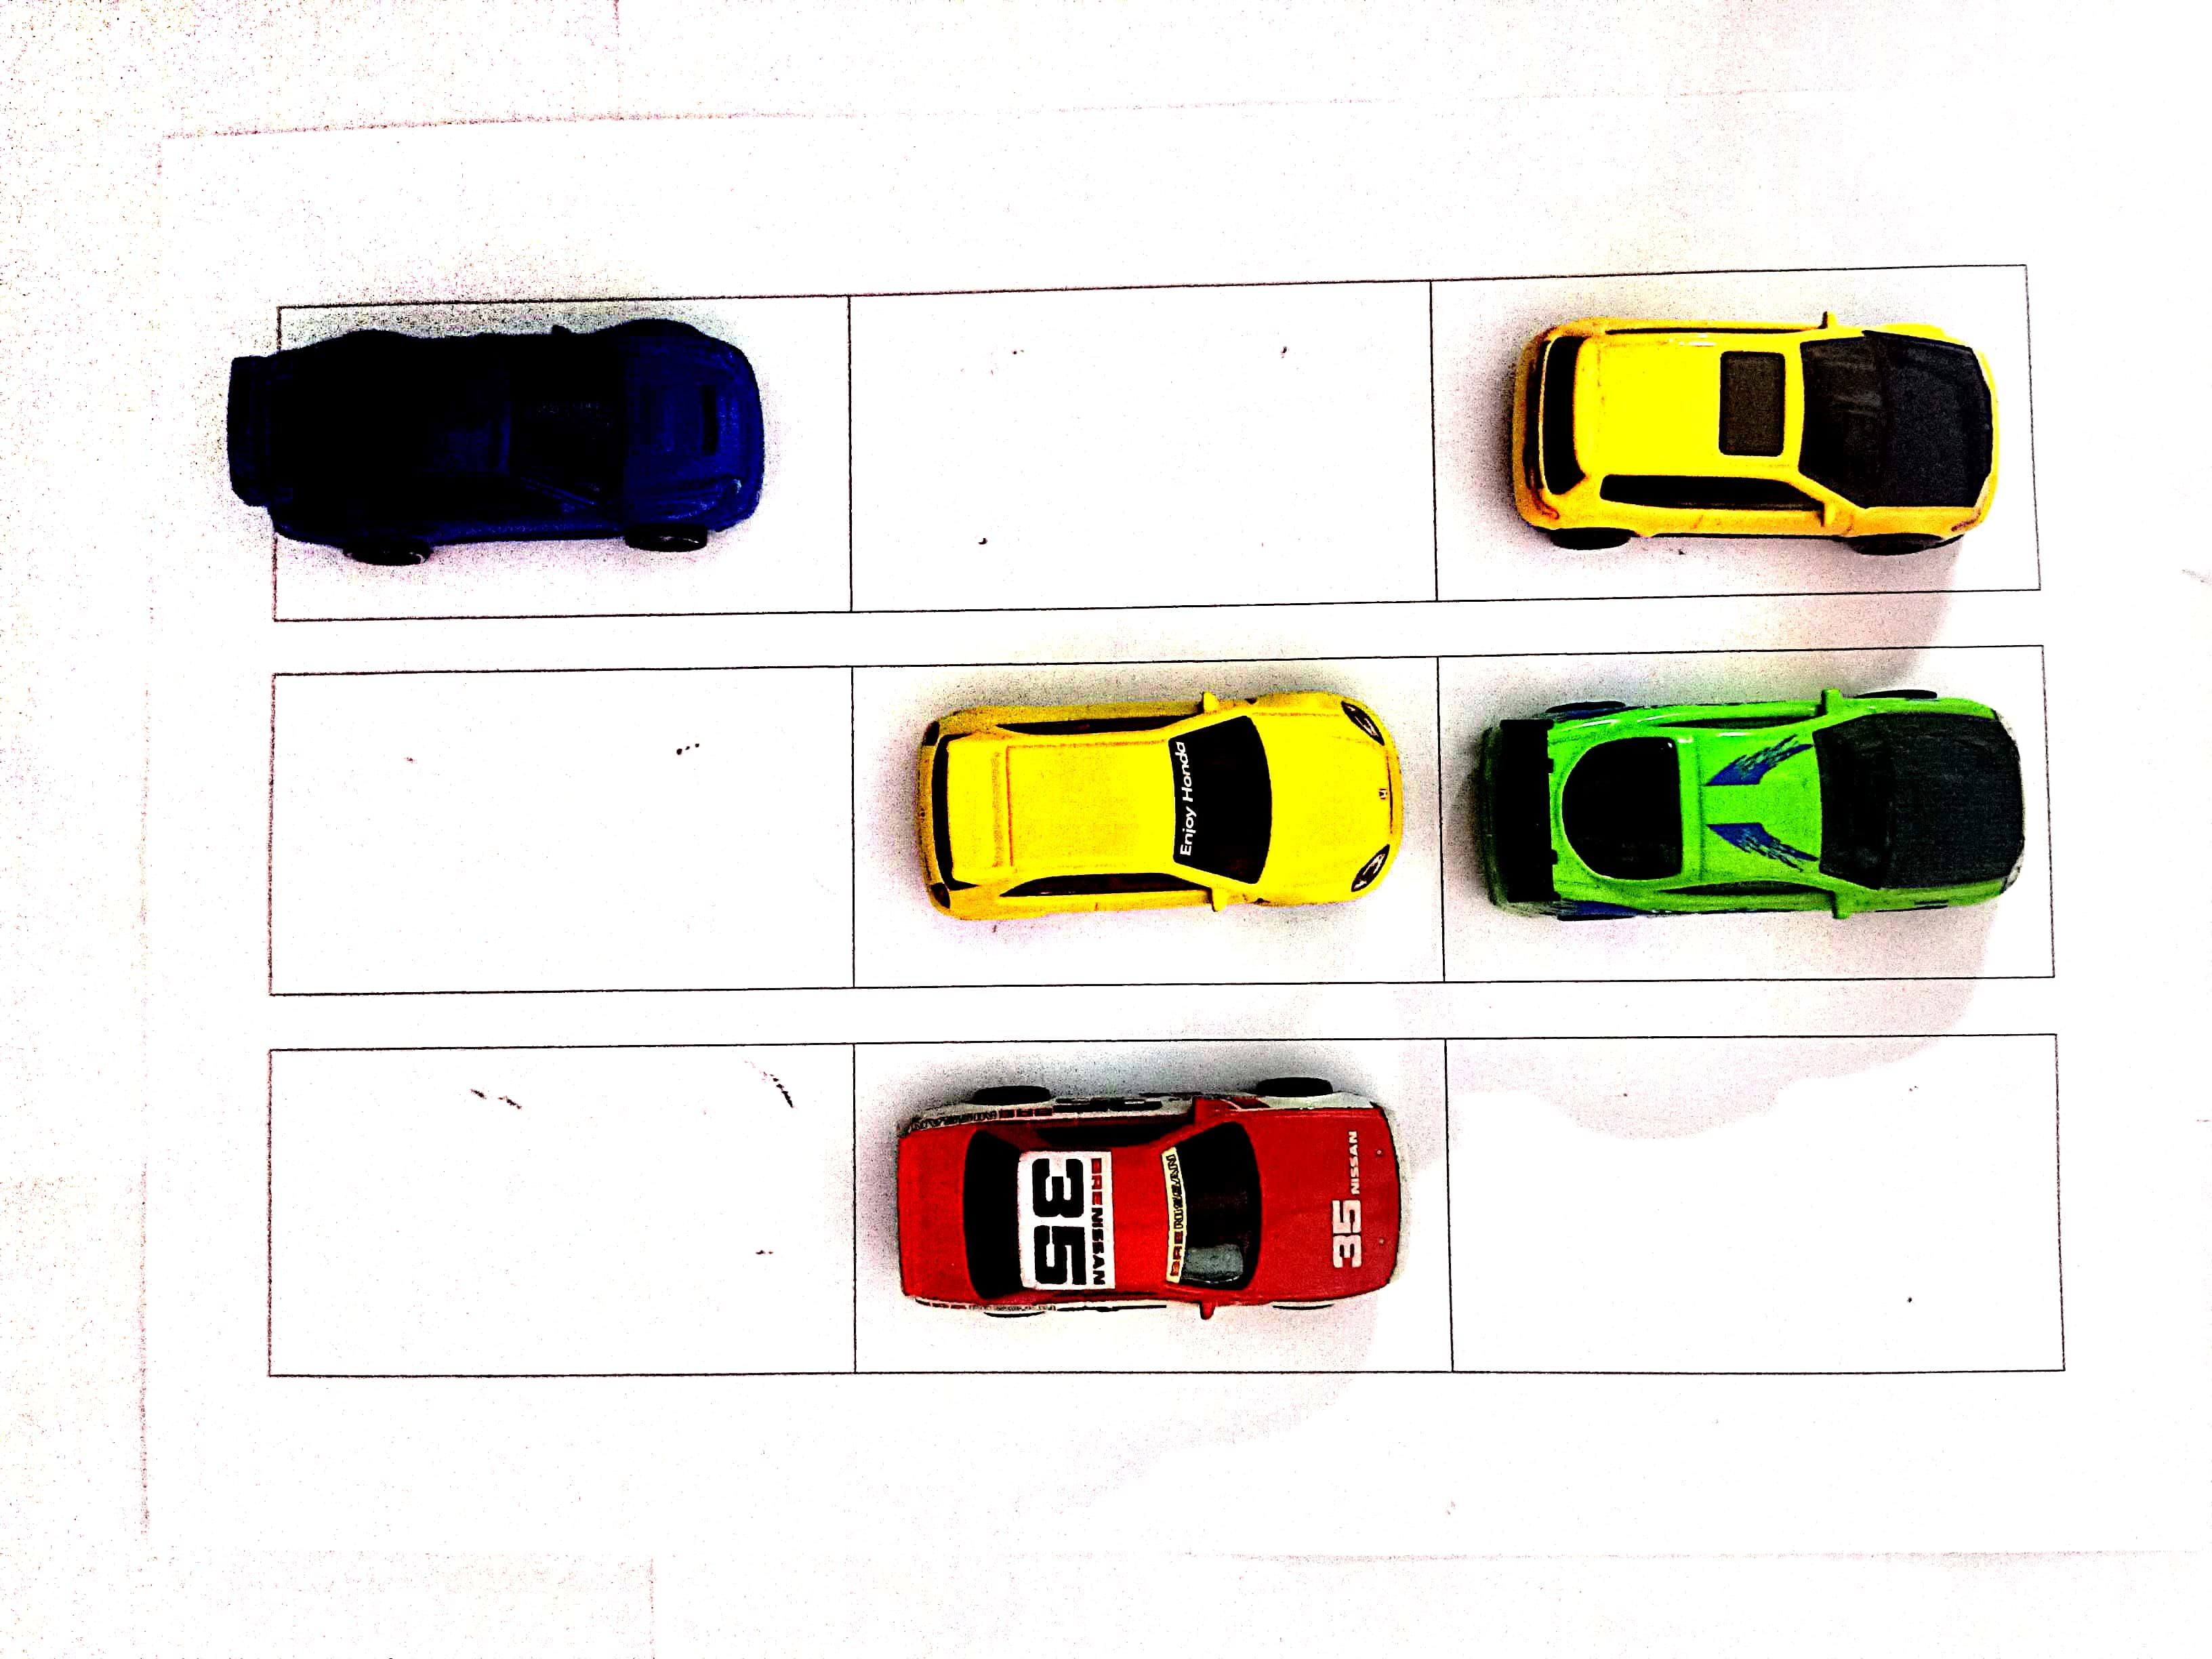Busy: (1446, 645, 2034, 979), (1433, 267, 2017, 601), (860, 1046, 1446, 1366), (848, 662, 1437, 972), (265, 308, 848, 610)
Free: (1449, 1040, 2045, 1366), (852, 279, 1423, 610), (265, 667, 836, 992), (286, 1049, 848, 1371)
